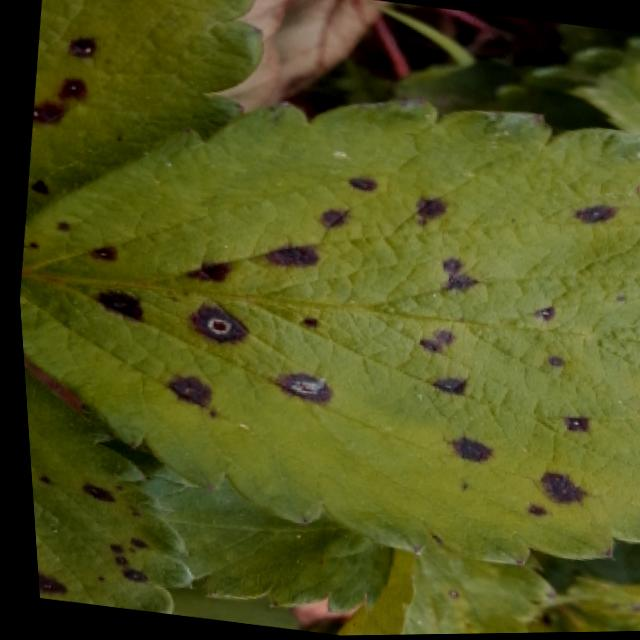Leaf Spot: (16, 96, 640, 565), (23, 0, 262, 216), (19, 366, 184, 615), (164, 575, 294, 632), (563, 57, 640, 135), (550, 596, 634, 634), (516, 604, 561, 634)
